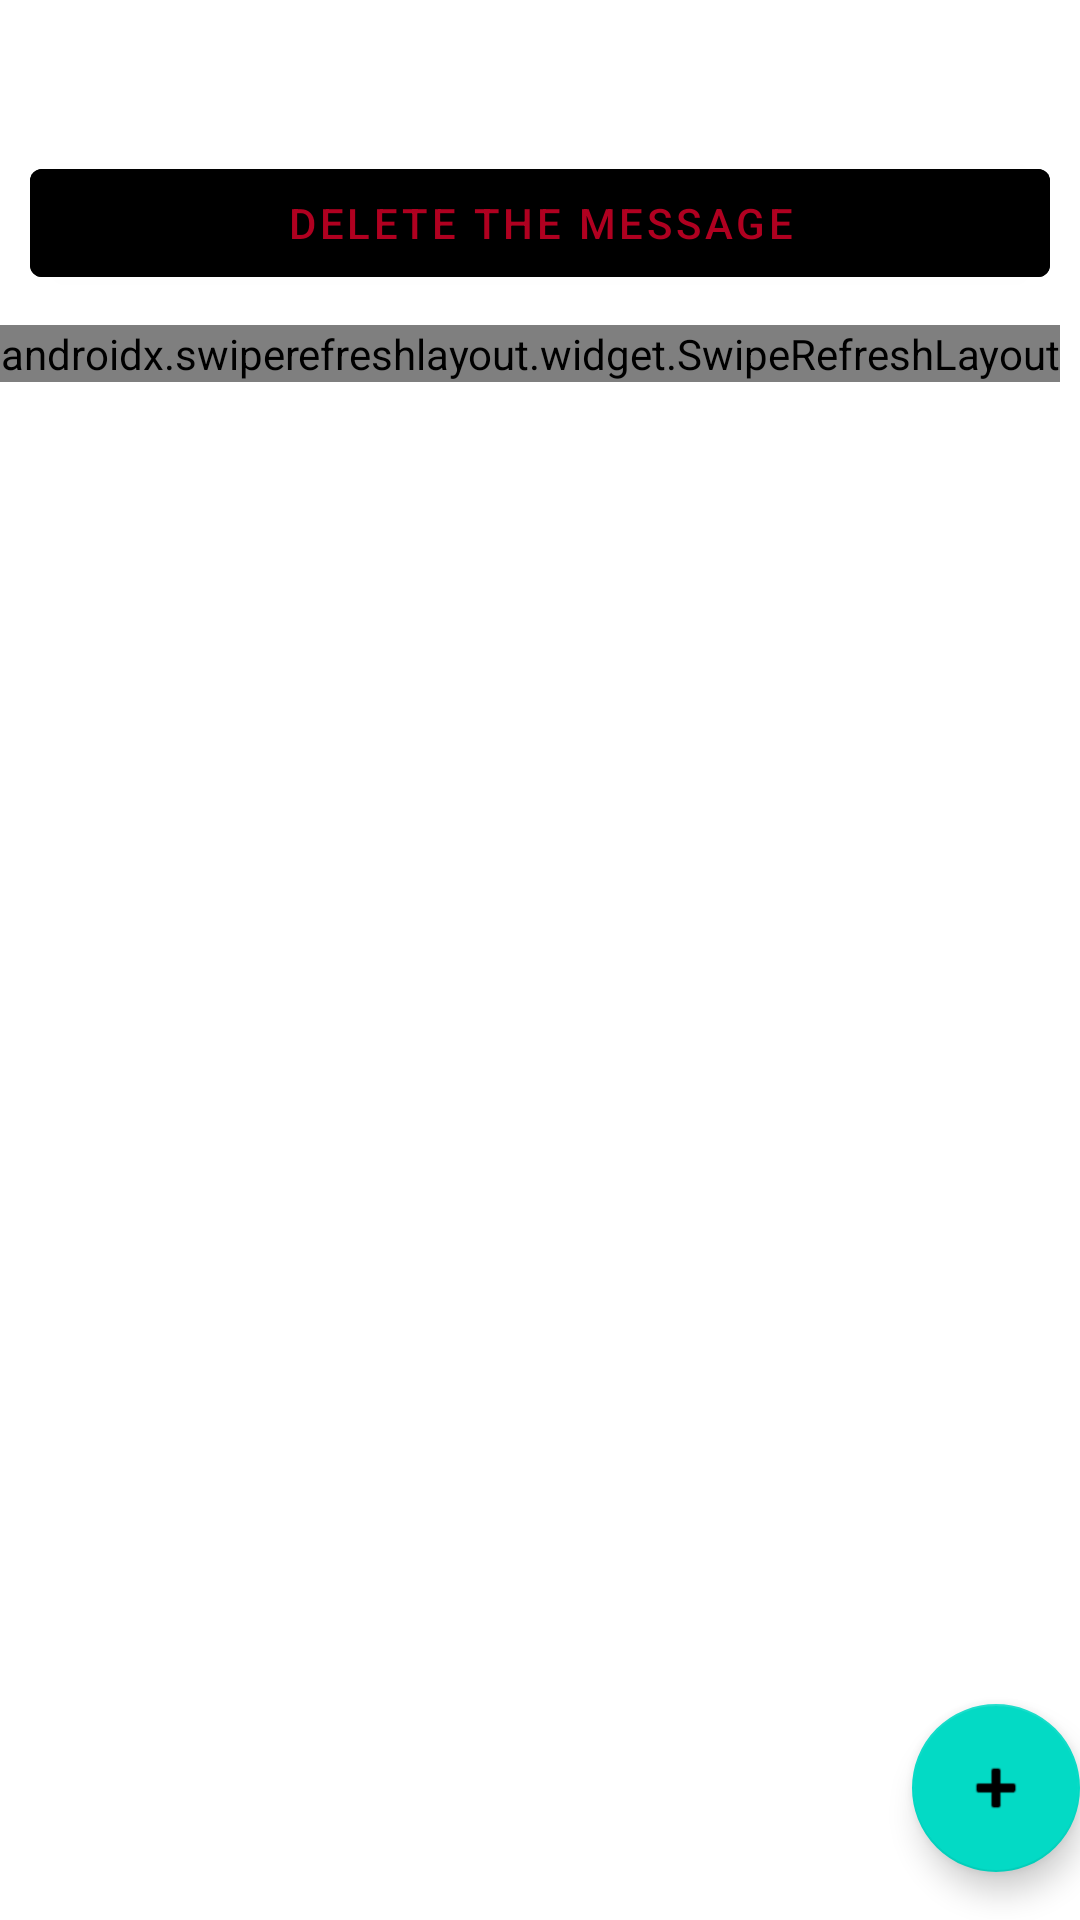

Icon click points for this 1080px×1920px phone screenshot, format point (x, y):
add: point (996, 1788)
